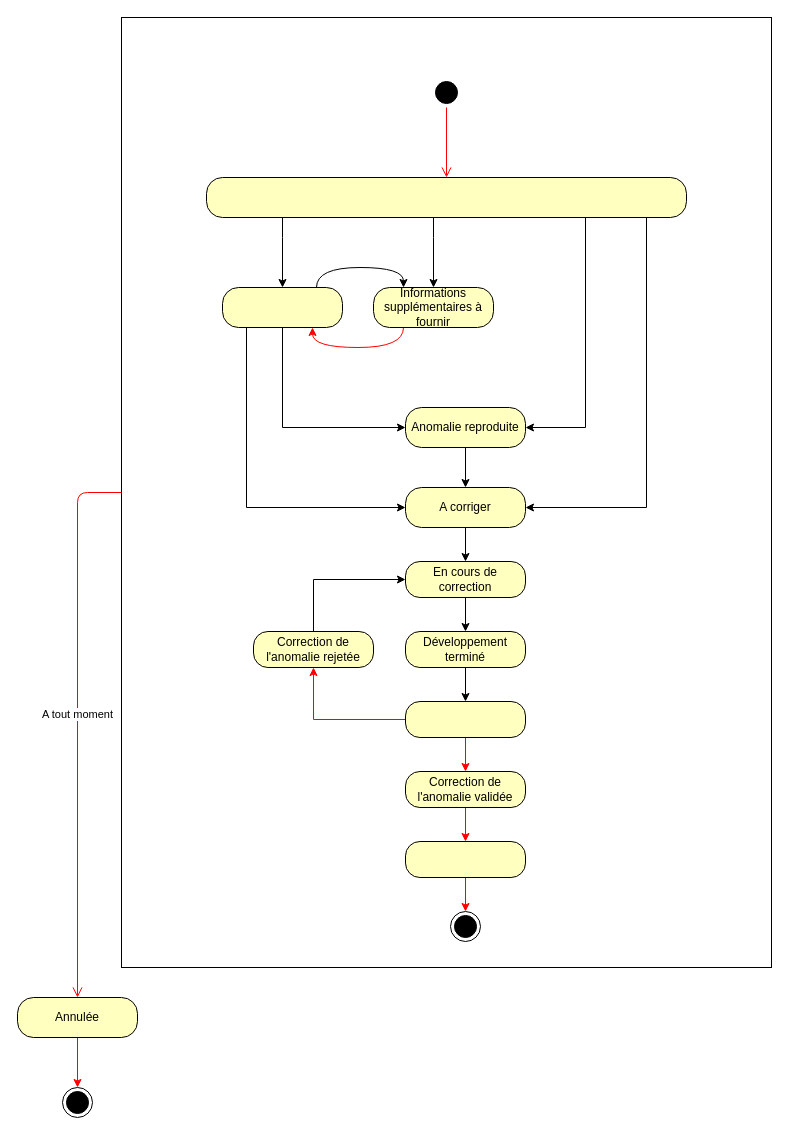
The diagram is 789 pixels wide and 1135 high, and some of its shapes have lost their labels. Here are the shapes that lost their labels. From the top down, the centre of each, then its label:
the point at 446,197: Nouveau
the point at 282,307: En cours d'analyse
the point at 465,719: Corrigée et à valider
the point at 465,859: Résolue
